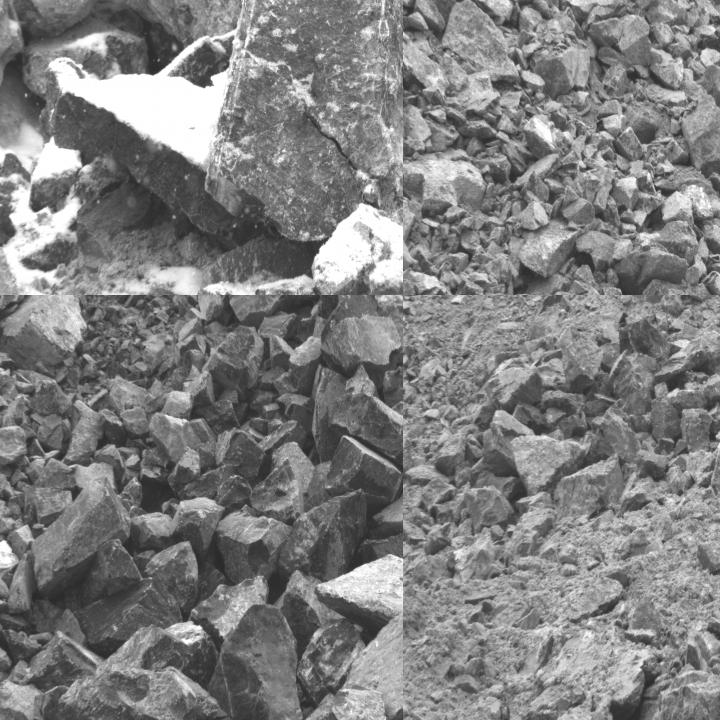stone: (202, 0, 402, 242), (43, 56, 240, 247), (31, 478, 130, 596), (206, 604, 305, 719), (42, 668, 221, 719), (88, 620, 220, 685), (278, 490, 370, 582), (311, 209, 402, 294), (71, 579, 179, 648), (121, 0, 272, 46), (441, 0, 521, 85), (313, 555, 402, 630), (441, 0, 520, 84), (344, 606, 402, 719), (330, 392, 402, 482), (215, 505, 292, 587), (0, 295, 87, 366), (275, 572, 347, 656), (298, 616, 366, 704), (324, 436, 402, 512), (322, 314, 402, 386), (512, 436, 592, 503), (194, 575, 270, 639), (554, 457, 624, 526), (23, 632, 102, 690), (204, 327, 264, 401), (575, 404, 640, 466), (610, 351, 659, 432), (81, 540, 143, 604), (516, 218, 581, 279), (144, 542, 198, 615), (319, 295, 390, 346), (251, 459, 304, 526), (483, 410, 535, 476), (169, 498, 220, 564), (681, 89, 719, 177), (147, 410, 203, 468), (619, 318, 682, 367), (275, 338, 327, 397), (485, 358, 541, 412), (531, 48, 590, 98), (216, 428, 272, 480), (656, 334, 719, 380), (504, 509, 556, 564), (61, 399, 103, 466), (188, 273, 321, 294), (634, 220, 697, 261), (464, 486, 518, 532), (574, 228, 632, 270), (229, 295, 293, 331), (563, 338, 603, 392), (105, 376, 165, 411), (370, 478, 402, 539), (0, 678, 46, 719), (616, 14, 652, 65), (366, 516, 402, 567), (31, 487, 76, 526), (131, 511, 172, 552), (626, 598, 660, 647), (215, 475, 253, 517), (380, 297, 402, 368), (680, 184, 717, 226), (651, 397, 682, 443), (525, 116, 560, 156), (433, 434, 467, 474), (682, 407, 712, 452), (419, 474, 454, 510), (414, 0, 449, 35), (698, 66, 719, 123), (415, 0, 460, 25), (646, 0, 687, 27), (500, 0, 560, 18), (597, 46, 634, 75), (0, 426, 28, 464), (651, 57, 684, 88), (662, 190, 693, 223), (588, 19, 623, 48), (611, 175, 639, 211), (638, 277, 697, 294), (615, 126, 644, 160), (403, 218, 419, 279), (517, 202, 550, 231), (686, 450, 714, 484), (556, 410, 590, 438), (696, 631, 719, 670), (601, 66, 629, 98), (636, 451, 667, 479), (542, 392, 587, 411), (516, 492, 554, 514), (515, 404, 544, 431), (697, 540, 719, 575), (649, 22, 676, 48), (565, 0, 616, 13), (519, 7, 544, 32), (403, 445, 415, 493), (702, 222, 719, 254), (544, 407, 566, 431), (124, 371, 152, 388), (704, 373, 719, 404), (661, 295, 684, 315), (710, 449, 719, 492), (702, 273, 719, 294), (634, 0, 658, 12), (712, 404, 719, 434)
